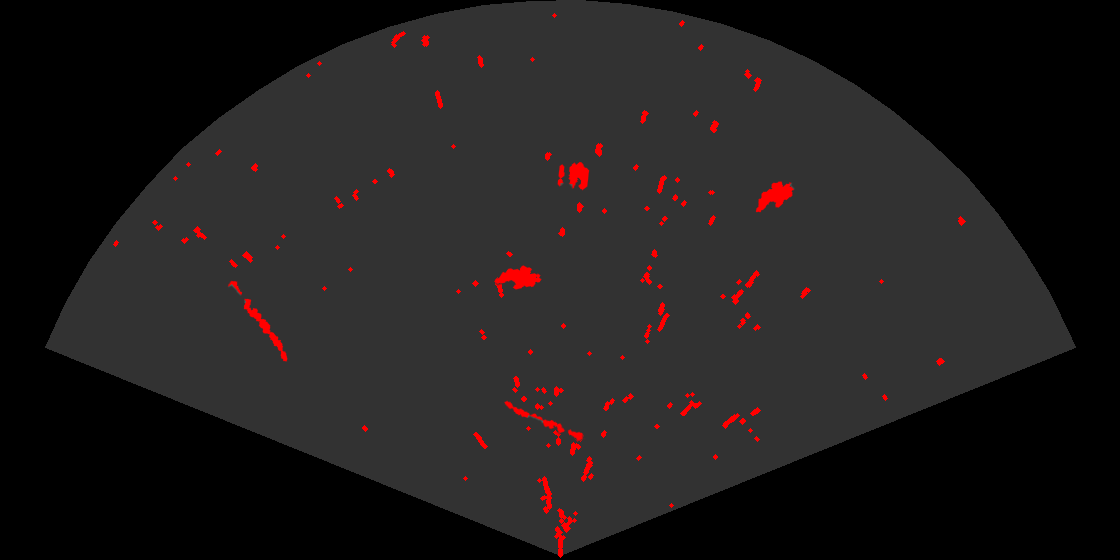AUV: (754, 180, 795, 214), (493, 264, 543, 291)
ball: (556, 160, 591, 192)
chain: (226, 279, 289, 363), (502, 399, 587, 443)
